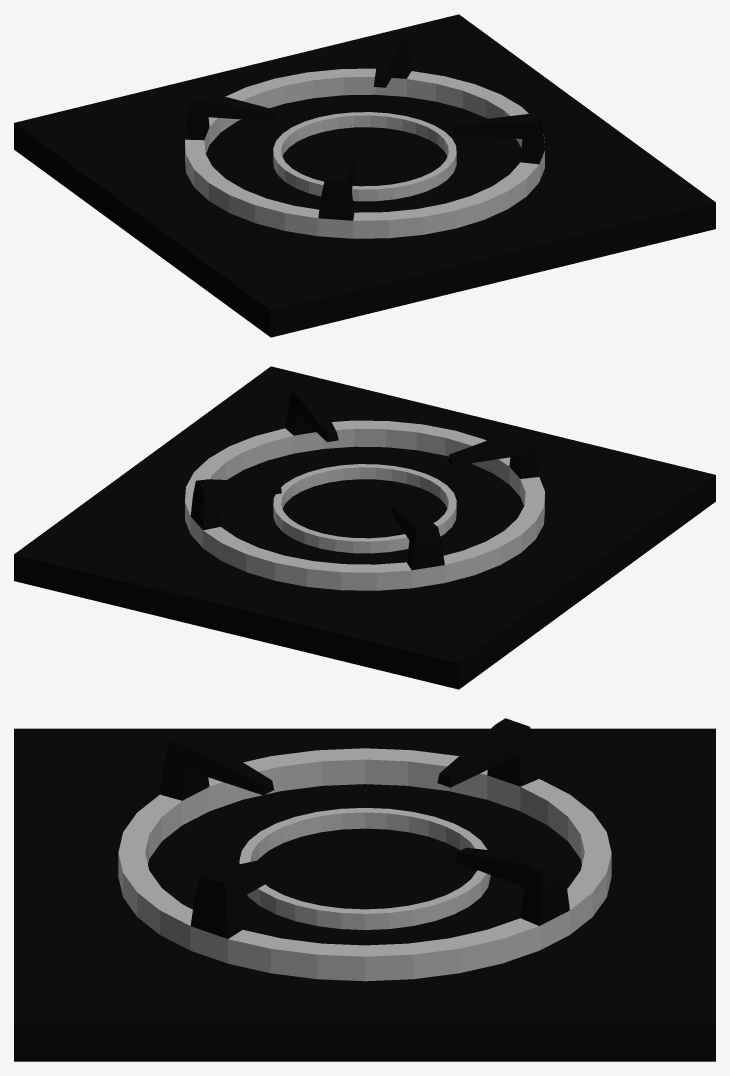
File: Fire_Boil.fbx
3 renders of one model, top to bottom at view 1: azimuth 30°, elevation 25°; view 2: azimuth 150°, elevation 25°; view 3: azimuth 270°, elevation 25°, orthographic. The views are drawn at different scales.
Visible parts, largest first — view 1: Fire.001; view 2: Fire.001; view 3: Fire.001.
Boxes of the visible parts, x1,y1,x2,y2 form: Fire.001: (14, 14, 715, 337); Fire.001: (14, 366, 715, 689); Fire.001: (14, 718, 715, 1061).
Bounding box in the file's own units: 0.8453 × 0.1492 × 0.8453.
